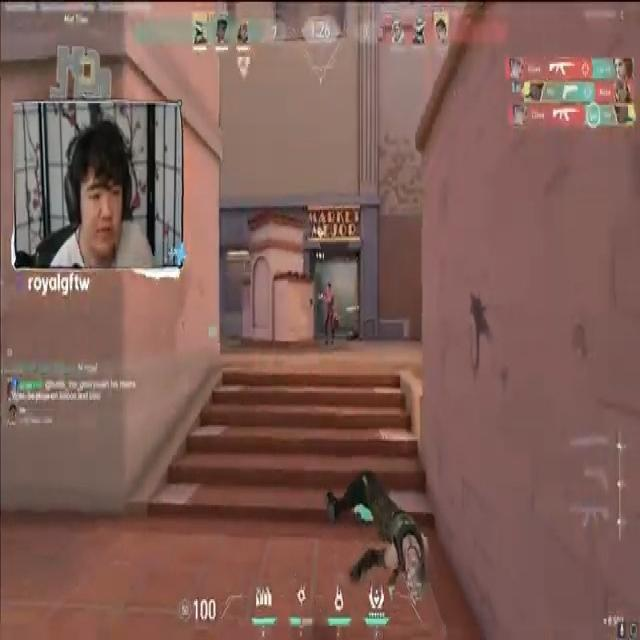enemy: (316, 278, 340, 339)
